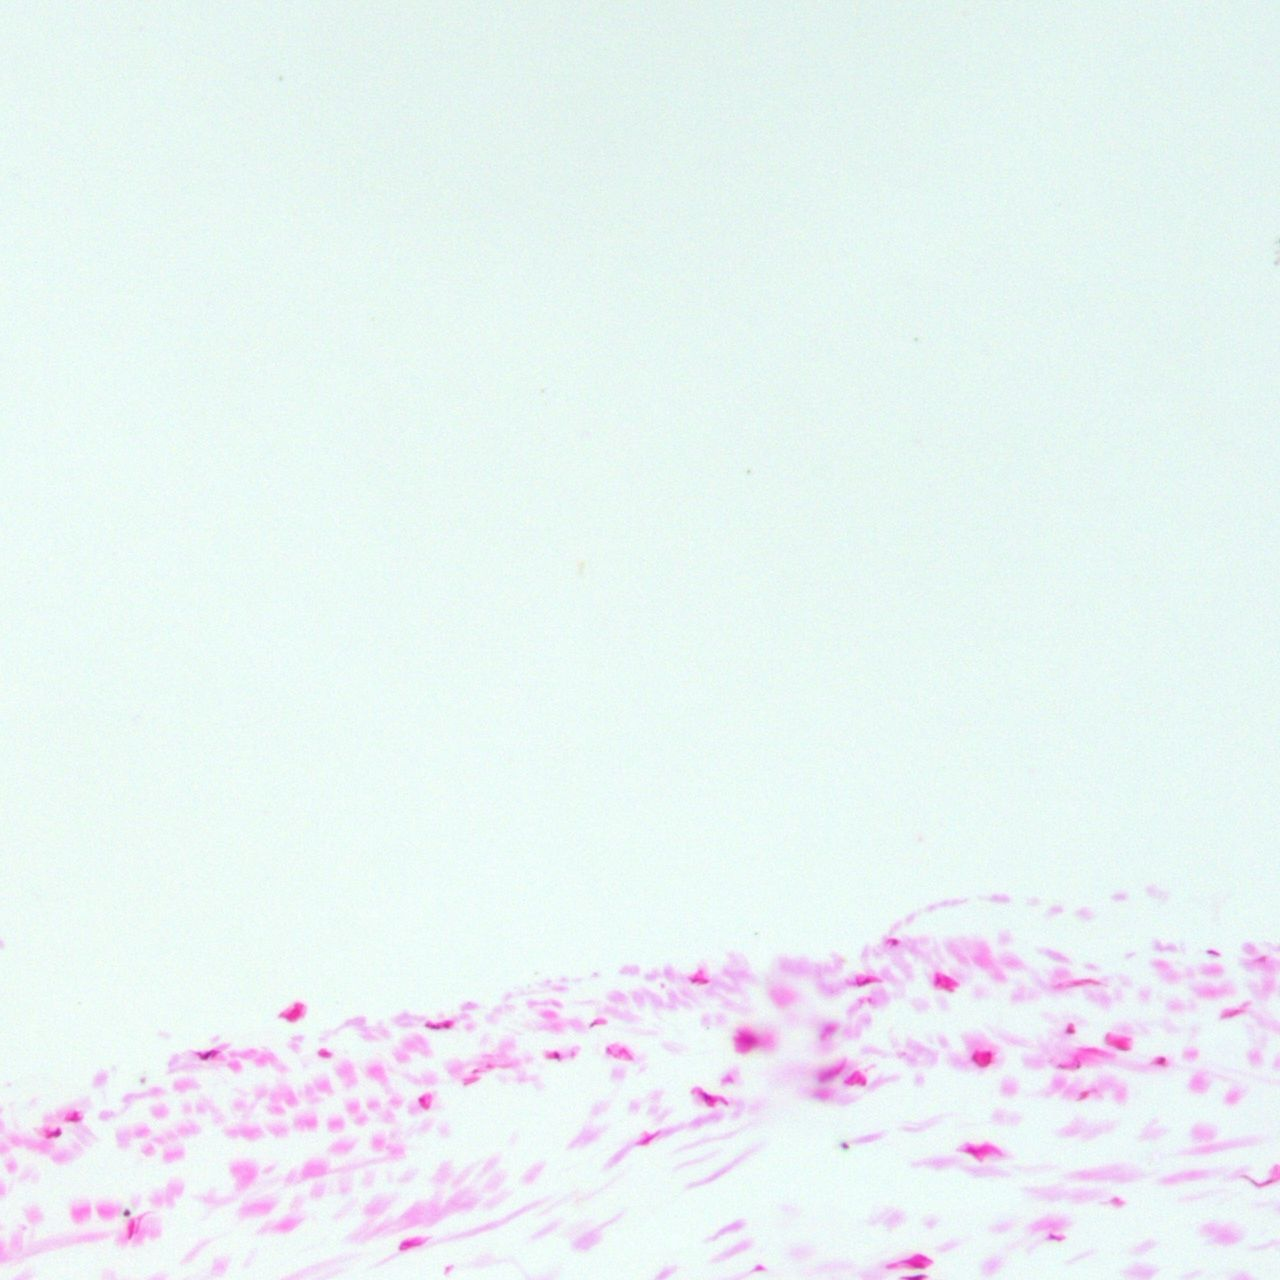dust: (121, 1207, 132, 1217), (840, 1141, 849, 1149), (138, 1076, 147, 1084)
nucleus-FG: (688, 1084, 728, 1109), (815, 1057, 847, 1085), (960, 1141, 1001, 1160), (888, 1253, 934, 1269), (1055, 976, 1102, 990), (397, 1232, 430, 1250), (282, 1001, 306, 1023), (933, 972, 956, 993), (636, 1129, 661, 1148), (734, 1030, 756, 1050), (1105, 1036, 1131, 1051), (193, 1047, 217, 1062), (969, 1050, 992, 1065), (424, 1017, 452, 1029), (1220, 1007, 1242, 1021), (64, 1108, 82, 1121), (856, 974, 876, 985), (417, 1096, 429, 1112), (45, 1126, 62, 1137), (128, 1217, 135, 1242), (688, 978, 710, 985), (544, 1050, 560, 1060), (1204, 949, 1221, 956), (1155, 1054, 1165, 1065), (1064, 1023, 1075, 1034), (887, 938, 898, 945)
